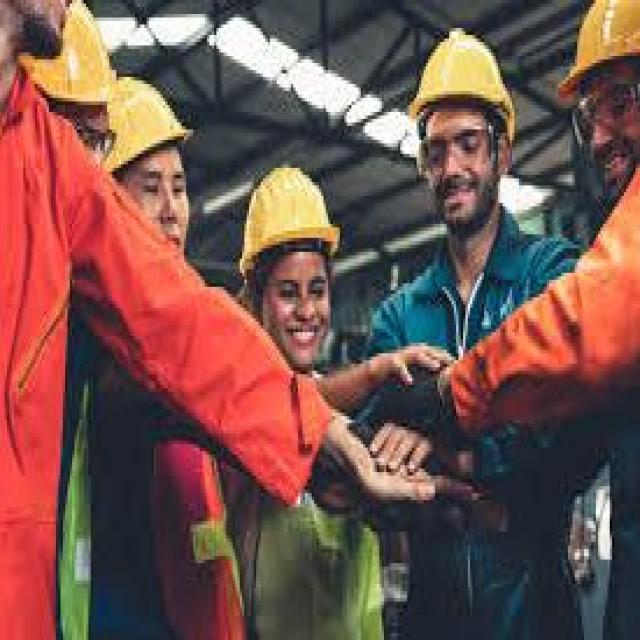Reflective-Jacket: (0, 63, 100, 636), (493, 150, 640, 455)
Safety-Helmet: (0, 3, 128, 122), (230, 157, 349, 280), (402, 25, 524, 136), (96, 70, 196, 189), (558, 0, 640, 101)
